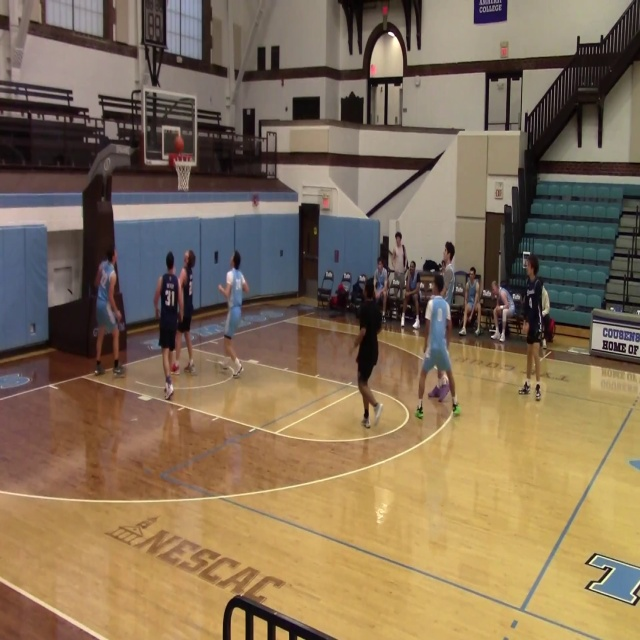Basketball: (173, 135, 184, 152), (171, 363, 179, 373)
